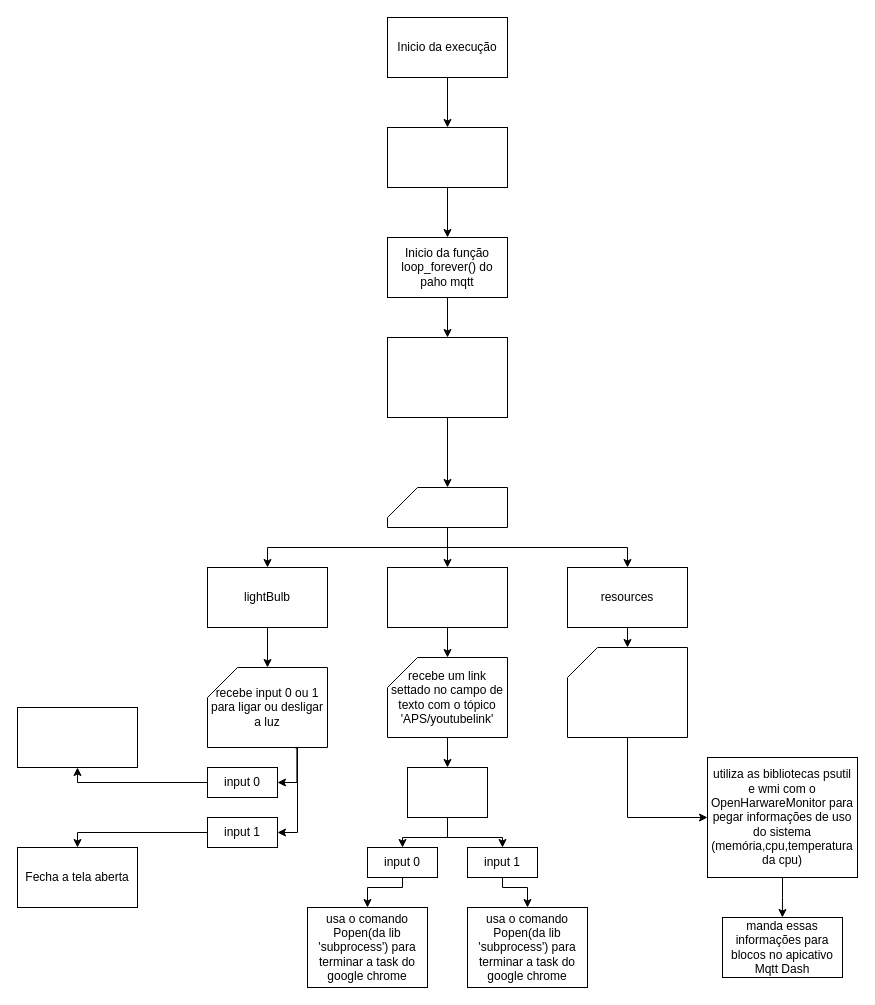
This 875x1005 diagram has some shape labels left out. The shapes that lost their labels are listed below. From the top down, each one's box as (x1, y1, x2, y2) in pixels, then its label:
(386, 126, 508, 188): Conexão com o Broker (test.mosquitto.org)
(386, 336, 508, 418): tem várias funções de callback dependendo do tópico que recebe a mensagem
(386, 486, 508, 528): Mqtt Dash
(386, 566, 508, 628): youtube
(566, 646, 688, 738): recebe input do botao Update no tópico resources
(16, 706, 138, 768): Abre uma tela branca utilizando o turtle
(406, 766, 488, 818): Botão Send Link é apertado
